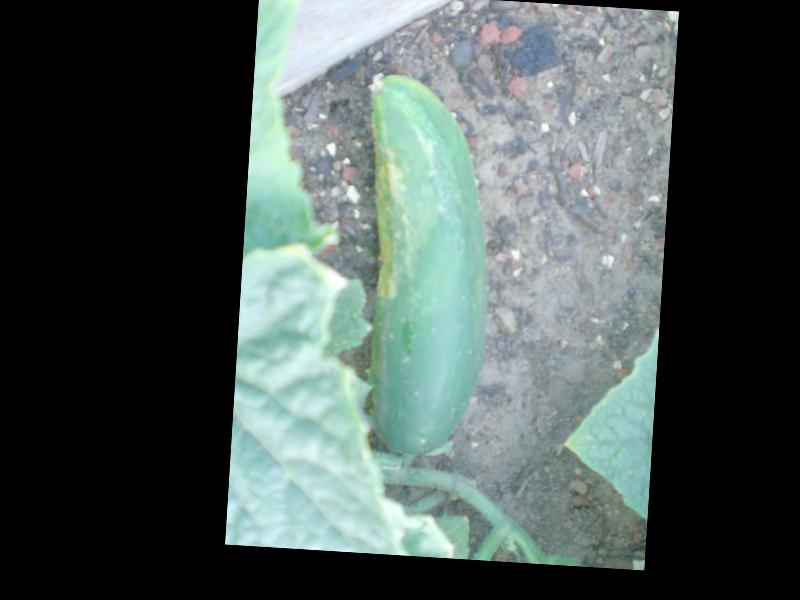Cucumber: (347, 72, 500, 457)
